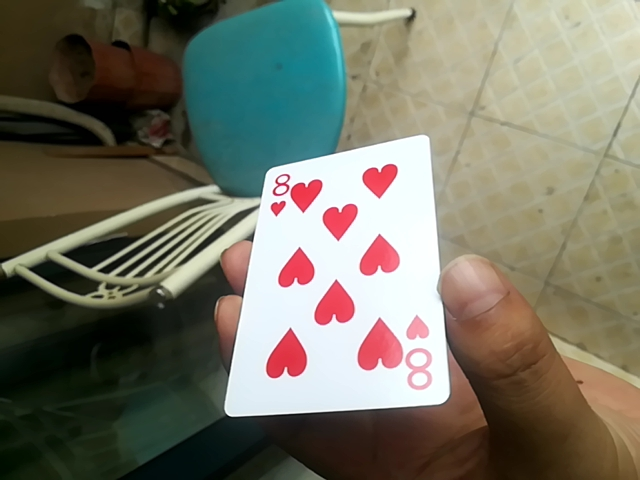hx 8: (228, 133, 443, 411)
